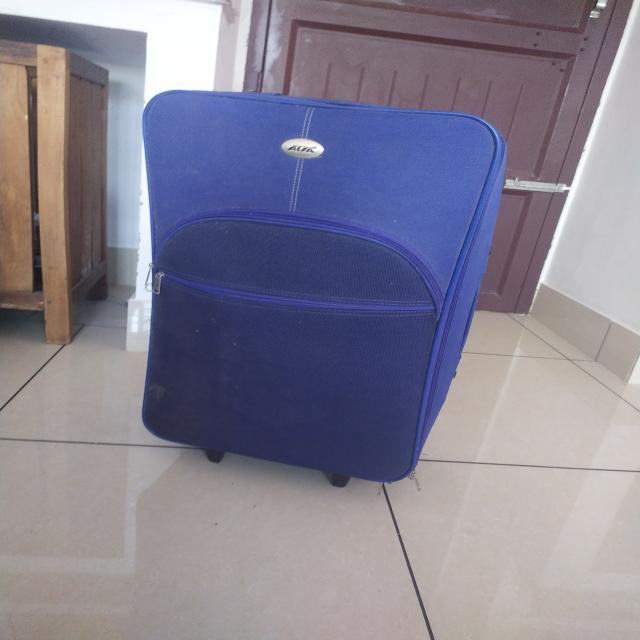suitcaserotation: (135, 86, 510, 490)
